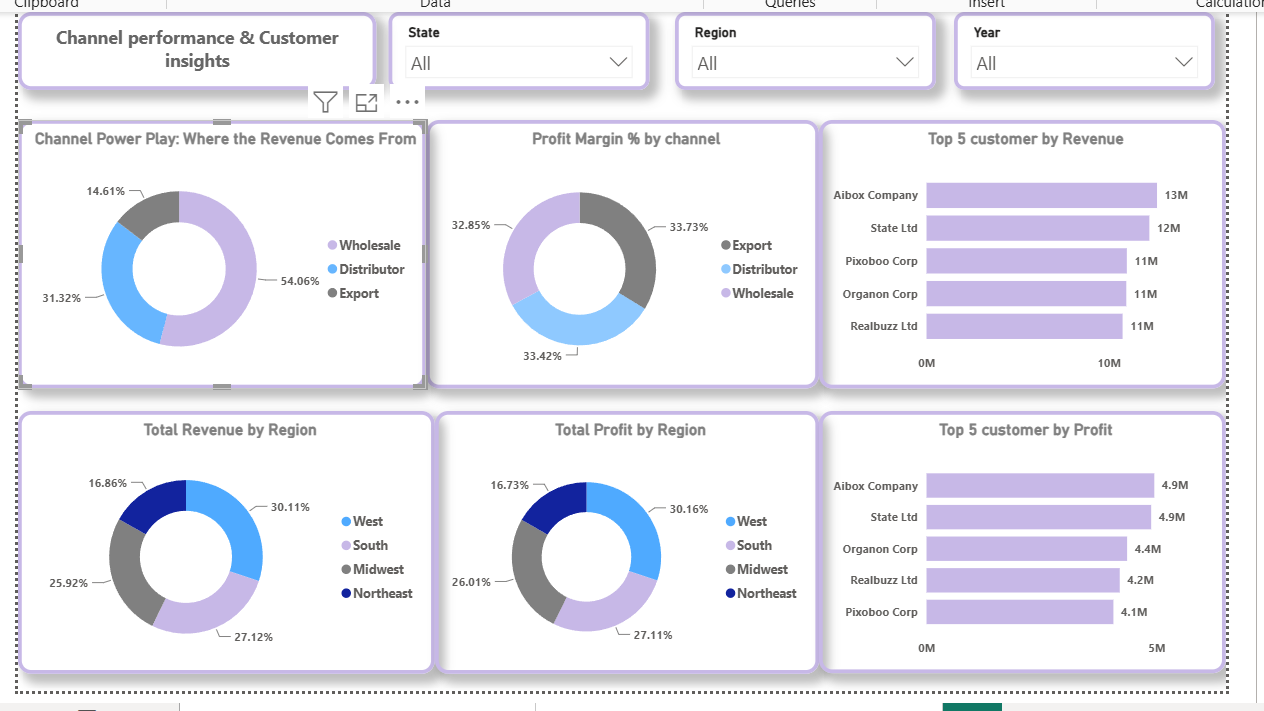

This screenshot's page, from the dashboard's own definition file:
{"tool":"powerbi","page":{"name":" Channel performance & Customer insights","canvas":[1280,720],"ordinal":1},"visuals":[{"type":"textbox","box":[0,0,380.2,82.7],"z":0},{"type":"slicer","fields":{"Values":["Sales_data.us_region"]},"box":[696.7,0,276.8,82.7],"z":1000},{"type":"slicer","fields":{"Values":["Sales_data.state"]},"box":[392.9,0,276.8,82.7],"z":2000},{"type":"slicer","fields":{"Values":["Sales_data.Year"]},"box":[992.5,0,276.8,82.7],"z":3000},{"type":"donutChart","title":"Channel Power Play: Where the Revenue Comes From","fields":{"Category":["Sales_data.channel"],"Y":["Measure_.total_revenue"]},"box":[0,114.5,432.6,284.7],"z":4000},{"type":"donutChart","fields":{"Category":["Sales_data.channel"],"Y":["Measure_.Profit Margin %"]},"box":[432.6,114.5,416.7,284.7],"z":5000},{"type":"barChart","title":"Top 5 customer by Revenue","fields":{"Category":["Sales_data.customer_name"],"Y":["Measure_.total_revenue"]},"box":[849.4,114.5,431.1,284.7],"z":6000},{"type":"donutChart","title":"Total Revenue by Region","fields":{"Category":["Sales_data.us_region"],"Y":["Measure_.total_revenue"]},"box":[0,423.1,442.2,278.4],"z":7000},{"type":"donutChart","title":"Total Profit by Region","fields":{"Category":["Sales_data.us_region"],"Y":["Measure_.total_profit"]},"box":[442.2,423.1,407.2,278.4],"z":8000},{"type":"barChart","title":"Top 5 customer by Profit","fields":{"Category":["Sales_data.customer_name"],"Y":["Measure_.total_profit"]},"box":[849,423,431,278],"z":9000}]}

Visuals, with their boxes in screenshot pixels (x1, y1, x2, y2):
textbox: (16, 10, 374, 88)
slicer - Sales_data.us_region: (671, 10, 931, 88)
slicer - Sales_data.state: (386, 10, 646, 88)
slicer - Sales_data.Year: (949, 10, 1209, 88)
"Channel Power Play: Where the Revenue Comes From" donutChart: (16, 117, 423, 385)
donutChart - Sales_data.channel x Measure_.Profit Margin %: (423, 117, 814, 385)
"Top 5 customer by Revenue" barChart: (814, 117, 1219, 385)
"Total Revenue by Region" donutChart: (16, 407, 432, 669)
"Total Profit by Region" donutChart: (432, 407, 814, 669)
"Top 5 customer by Profit" barChart: (814, 407, 1219, 668)
